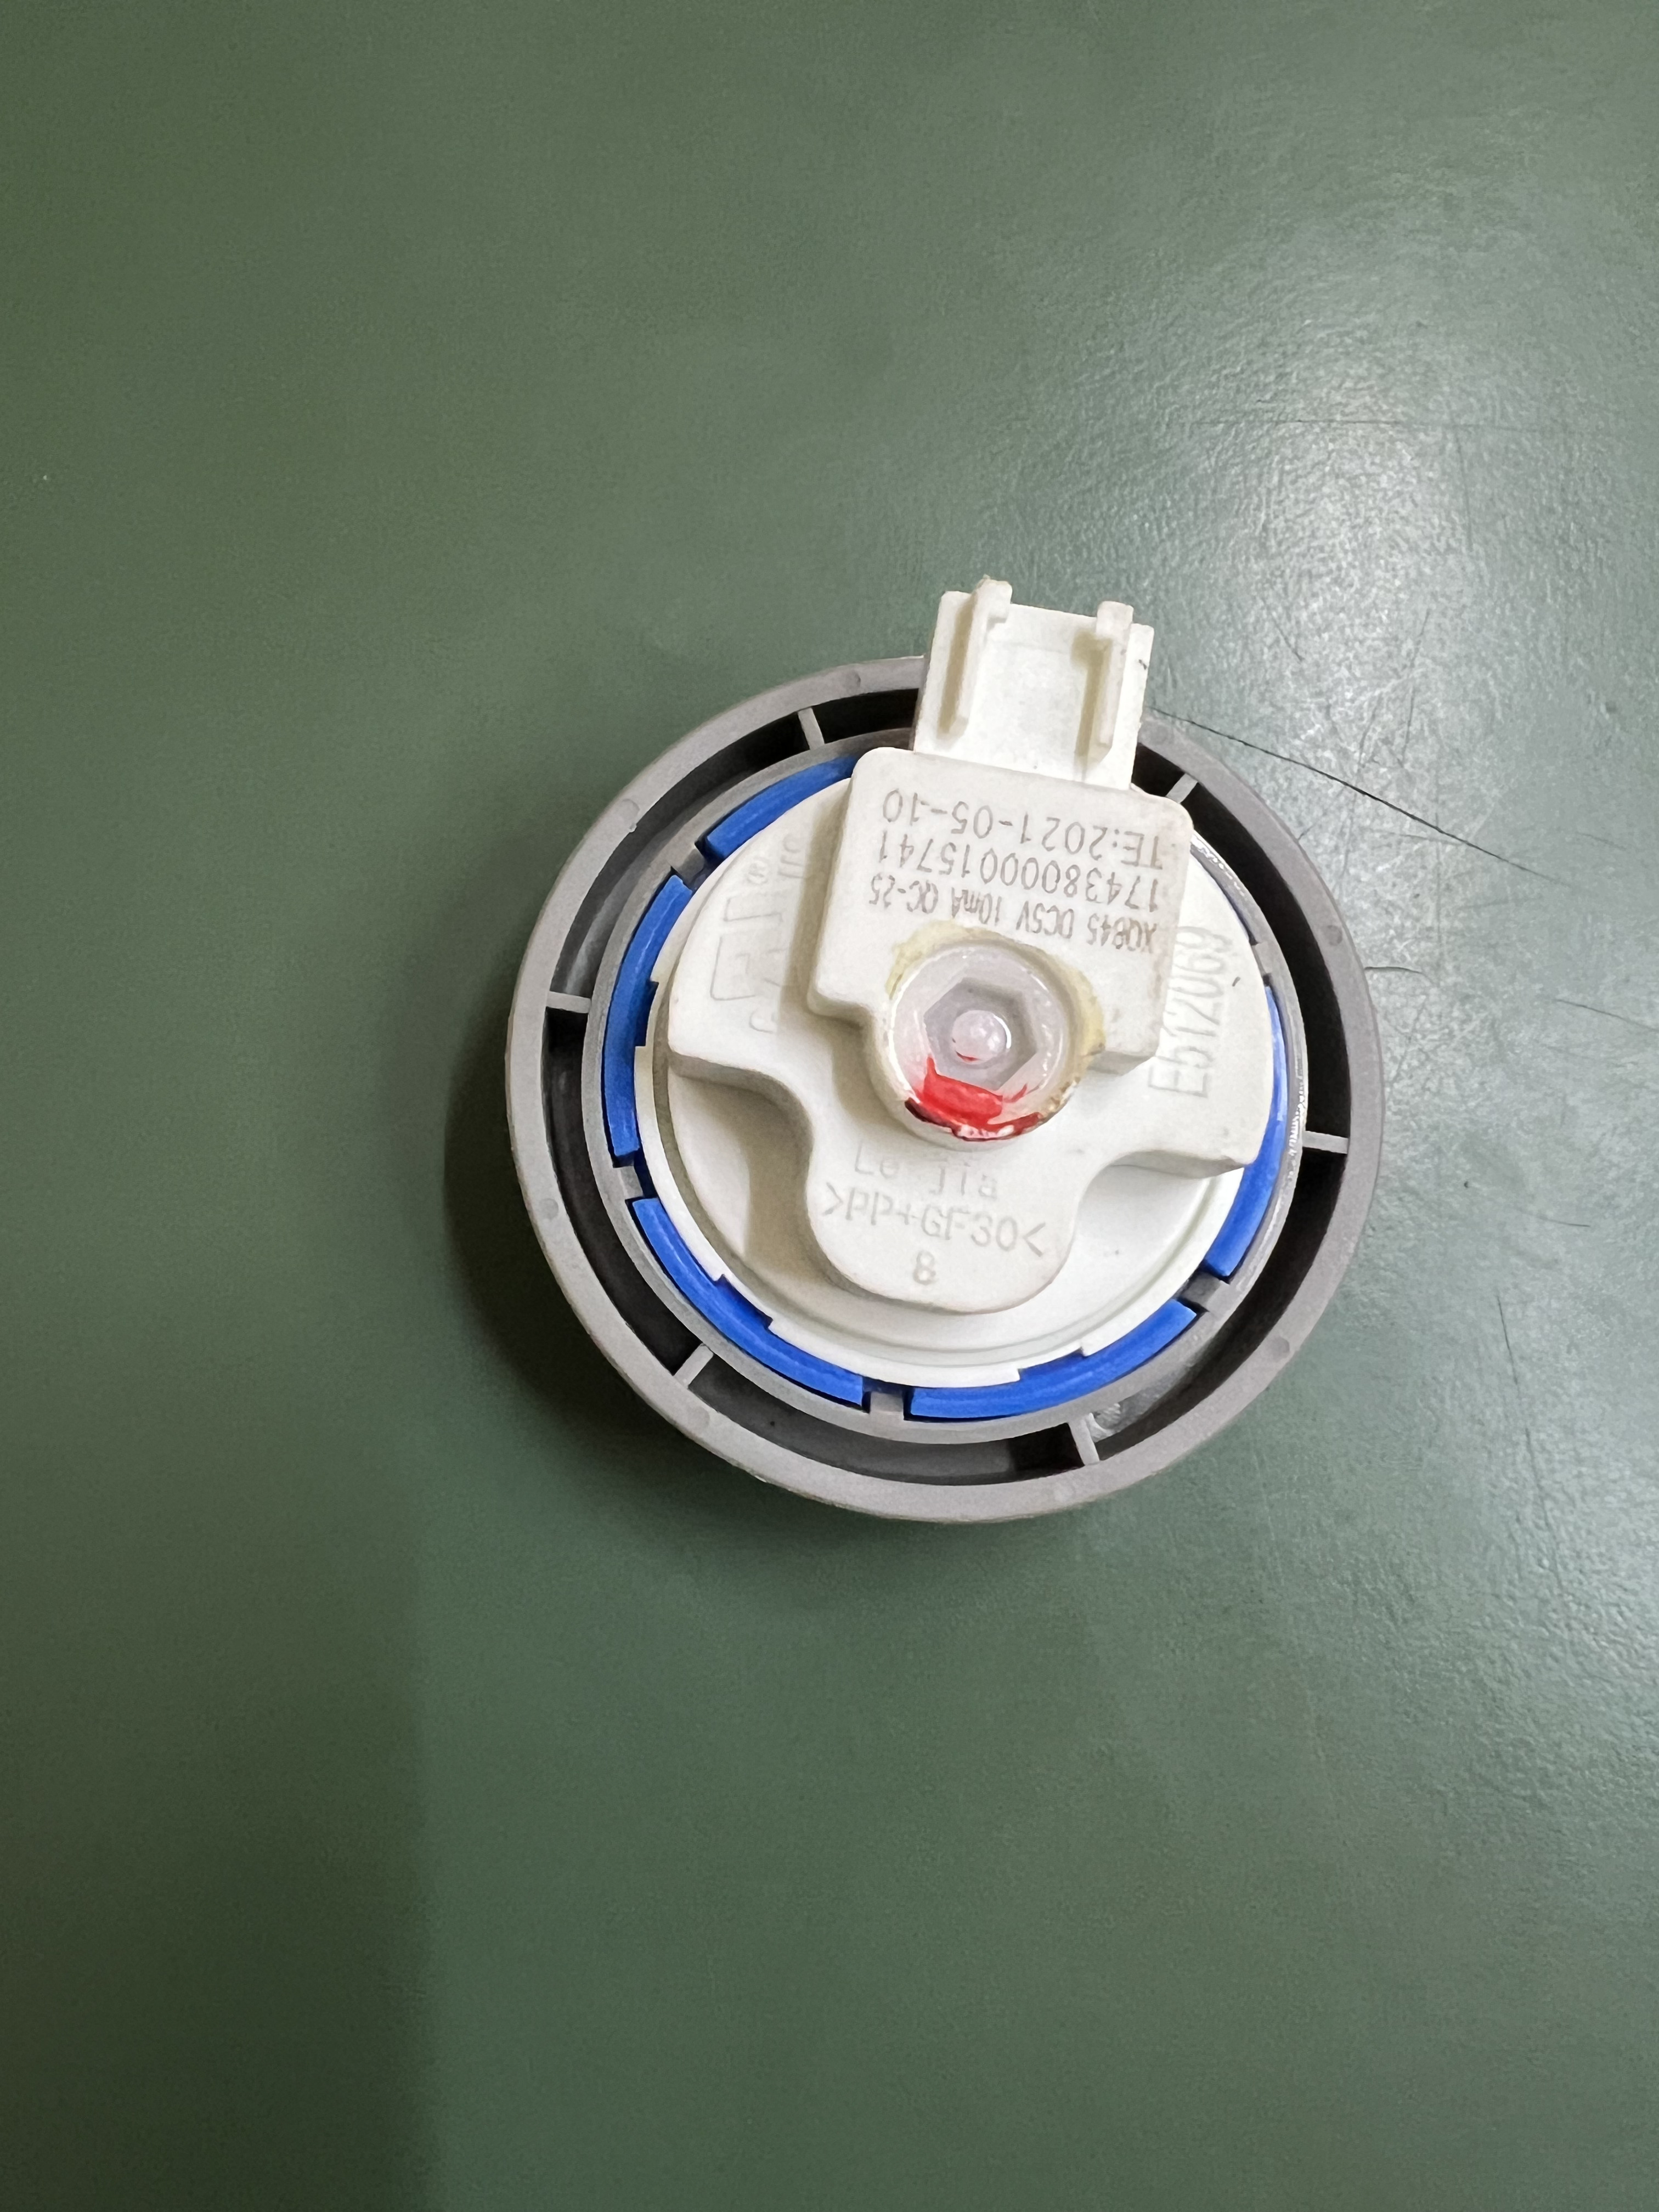pressure_sensor: (486, 599, 1345, 1515)
